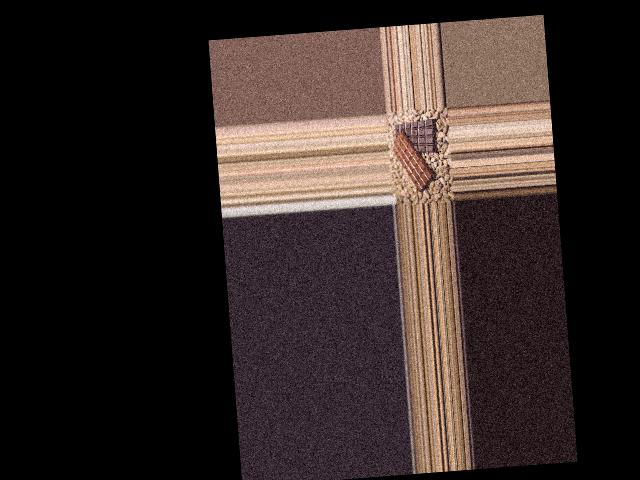chocolate: (391, 114, 440, 155)
